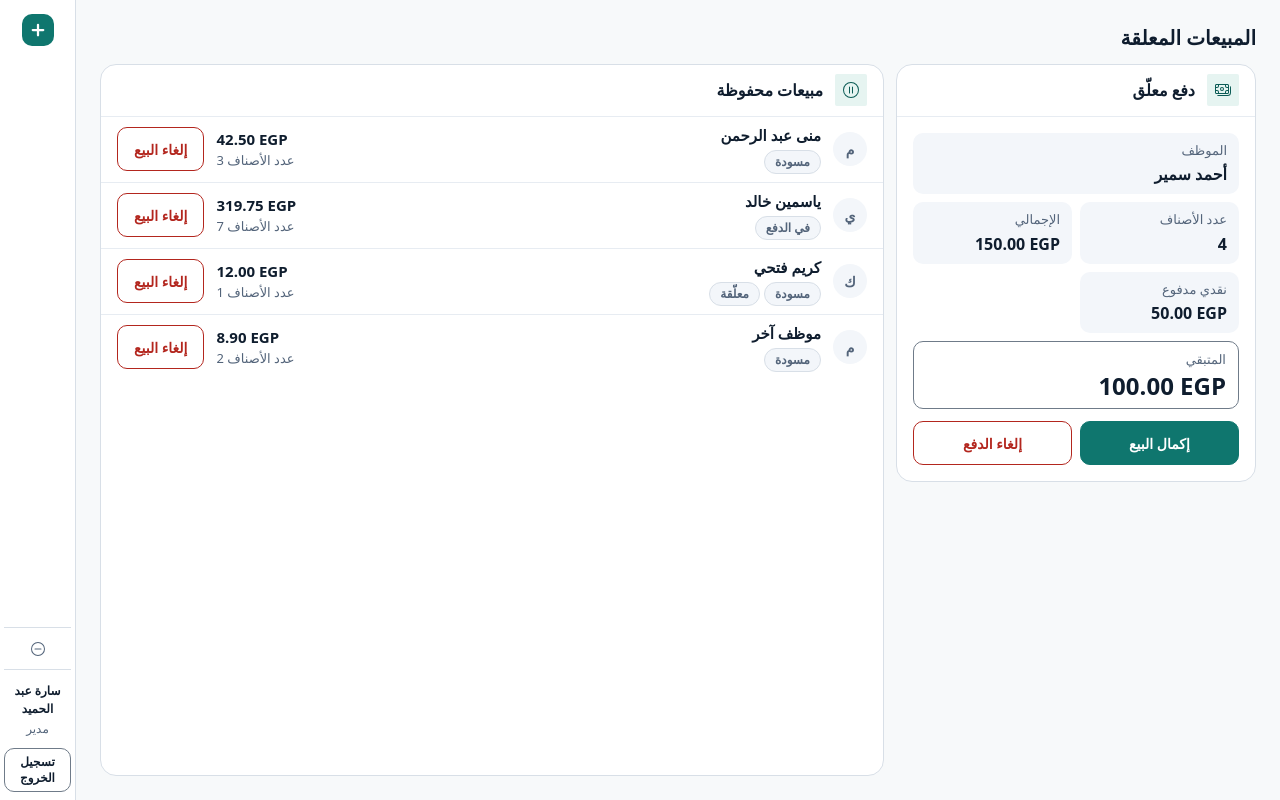
RT-441 RecoveryProof — the page › opens the action dialog in the frame’s dialog host, outside <main>
The image size is (1280, 800).
Click the button "إلغاء البيع" in the row of "منى عبد الرحمن": (161, 149) [117,127,204,171]
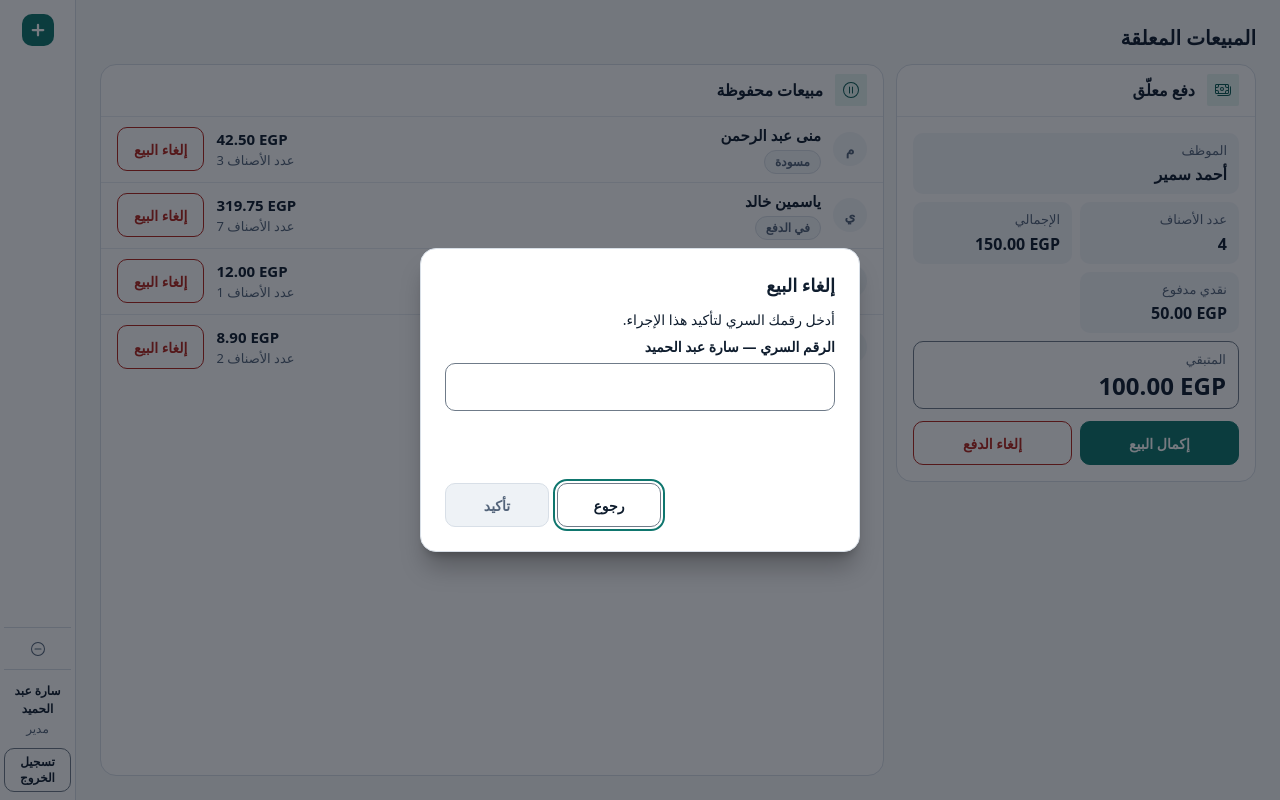
In the password field labelled "الرقم السري — سارة عبد الحميد": (640, 387) [445,363,835,411], type "246810"
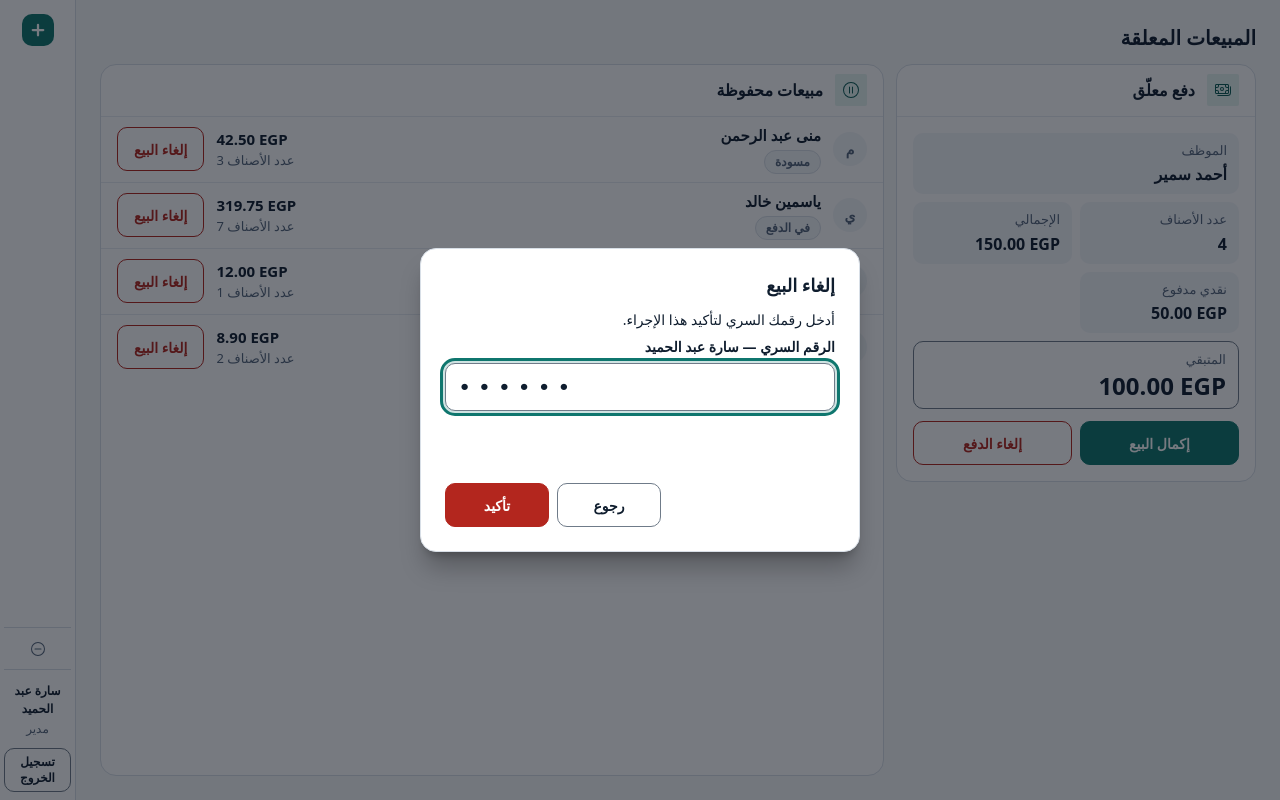
Click the button "تأكيد": (497, 505) [445,483,549,527]
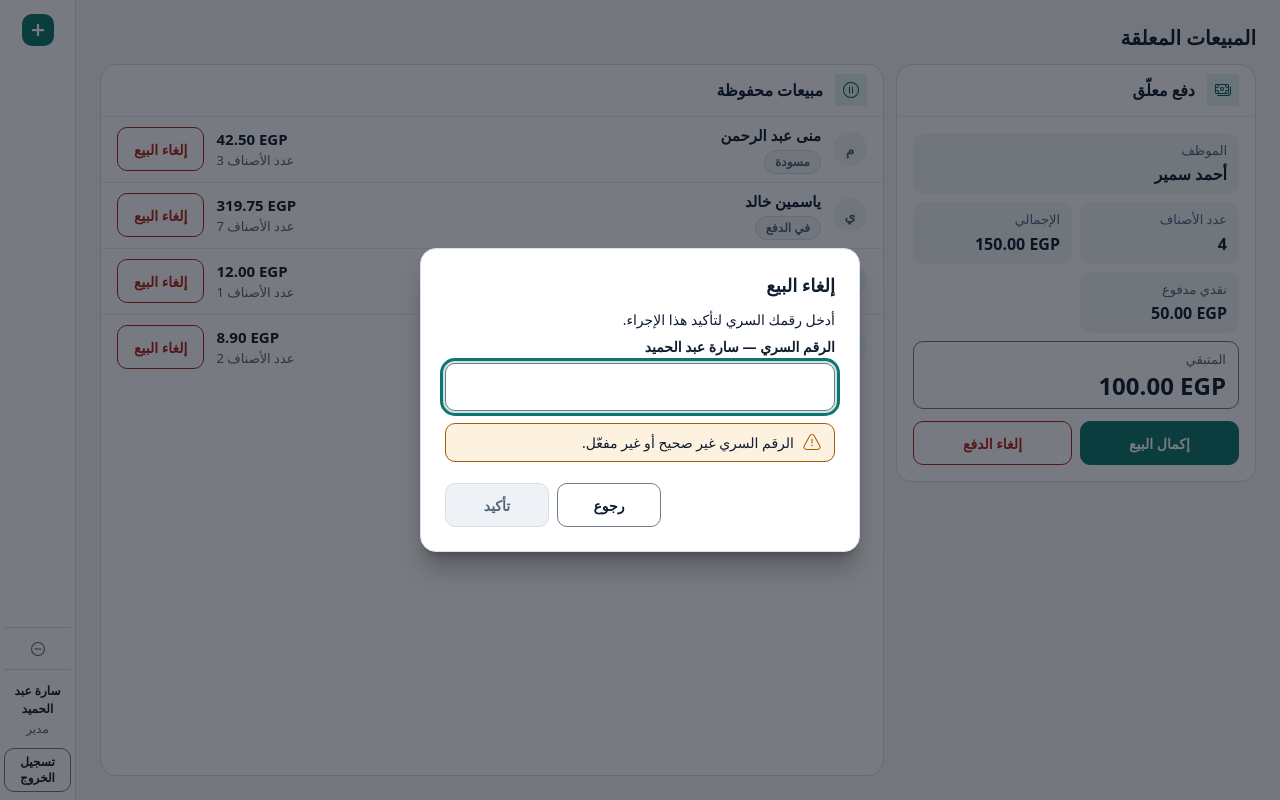
Result: the message reads "الرقم السري غير صحيح أو غير مفعّل." at [582,433,794,452]
